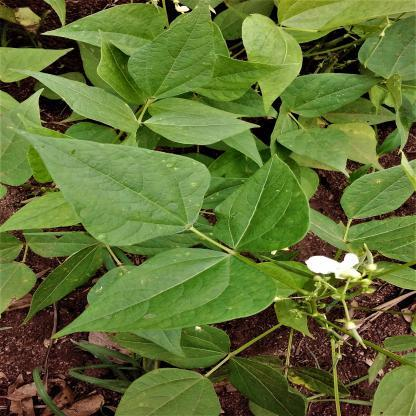Beans_Rust: (7, 127, 209, 242), (50, 249, 277, 340)
